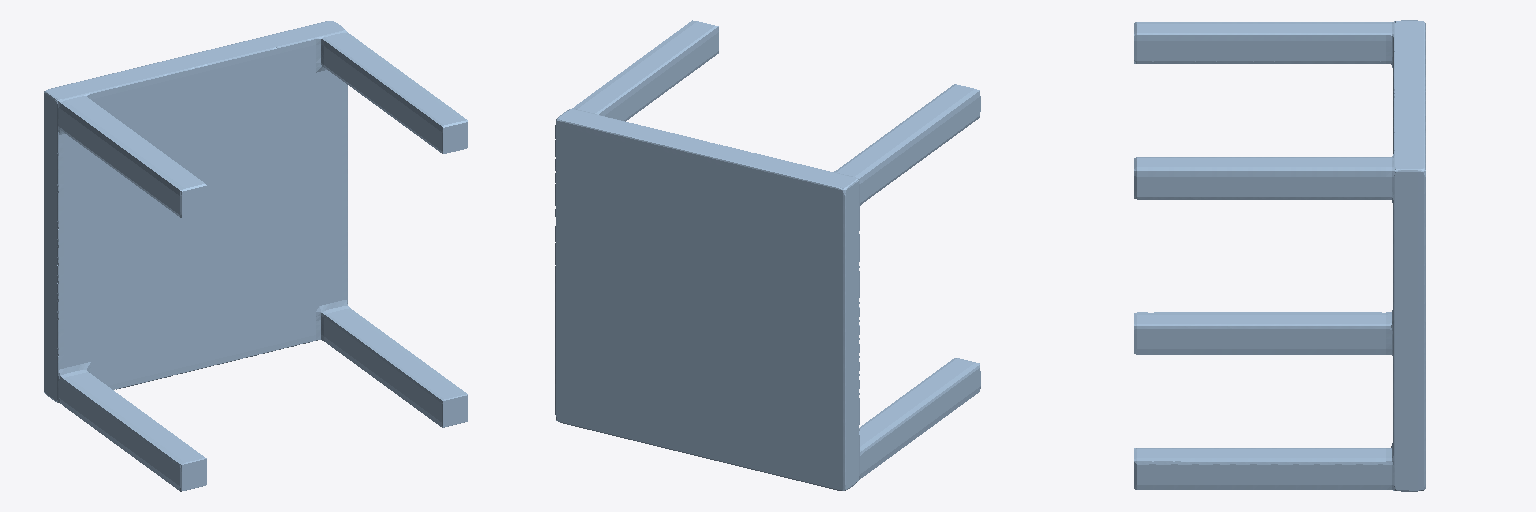
The robot description file, URDF, robot "largetable":
<?xml version="1.0" ?>
<robot name="largetable">
  <dynamics damping="0.5" friction="0.9"/>
  <link name="largetable_link">
    <inertial>
      <mass value="0.1"/>
      <origin xyz="0 0 0"/>
      <inertia ixx="0.002" ixy="0" ixz="0" iyy="0.002" iyz="0" izz="0.002"/>
    </inertial>
    <contact>
      <lateral_friction value="0.9"/>
      <rolling_friction value="0.5"/>
      <stiffness value="30000"/>
      <damping value="1000"/>
    </contact>
    <visual>
      <origin rpy="0 0 0" xyz="0 0 0"/>
      <geometry>
        <mesh filename="largetable.obj" scale="1.0 1.0 1.0"/>
      </geometry>
       <material name="mat">
        <color rgba="0.7 0.8 0.9 0.7"/>
      </material>
    </visual>
    <collision name="largetable_tabletop">
      <origin rpy="0 0 0" xyz="0 0.036275 0"/>
      <geometry>
        <box size="0.5219528 0.04745 0.5219528"/>
      </geometry>
    </collision>
    <collision name="largetable_leg_neg_x_neg_z">
      <origin rpy="0 0 0" xyz="-0.23525 -0.17835 -0.23525"/>
      <geometry>
        <box size="0.05 0.3793 0.05"/>
      </geometry>
    </collision>
    <collision name="largetable_leg_neg_x_pos_z">
      <origin rpy="0 0 0" xyz="-0.23525 -0.17835 0.23525"/>
      <geometry>
        <box size="0.05 0.3793 0.05"/>
      </geometry>
    </collision>
    <collision name="largetable_leg_pos_x_neg_z">
      <origin rpy="0 0 0" xyz="0.23525 -0.17835 -0.23525"/>
      <geometry>
        <box size="0.05 0.3793 0.05"/>
      </geometry>
    </collision>
    <collision name="largetable_leg_pos_x_pos_z">
      <origin rpy="0 0 0" xyz="0.23525 -0.17835 0.23525"/>
      <geometry>
        <box size="0.05 0.3793 0.05"/>
      </geometry>
    </collision>
  </link>
</robot>

--- Facts derived from the render (not from the file) ---
The picture shows the robot from 3 angles, left to right: view 1: azimuth 30°, elevation 25°; view 2: azimuth 150°, elevation 25°; view 3: azimuth 270°, elevation 25°; orthographic projection.
Robot: largetable — 1 links, 0 joints (none); root link largetable_link; default pose: all joints at 0.
Visible links, largest first — view 1: largetable_link; view 2: largetable_link; view 3: largetable_link.
Boxes of the visible links, bbox=[...] form: largetable_link: bbox=[44, 21, 467, 491]; largetable_link: bbox=[555, 20, 980, 490]; largetable_link: bbox=[1134, 20, 1425, 491].
Size in the robot's own frame: 0.522 by 0.428 by 0.522 metres.
Meshes: 1 distinct files referenced, 1 mesh visuals loaded (1 OBJ).
